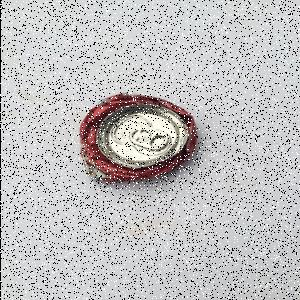Can: (80, 92, 198, 182)
